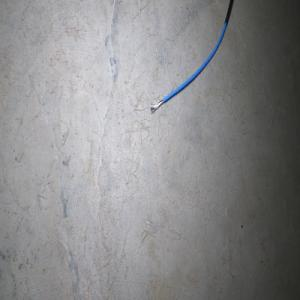Wire: (149, 0, 233, 113)
